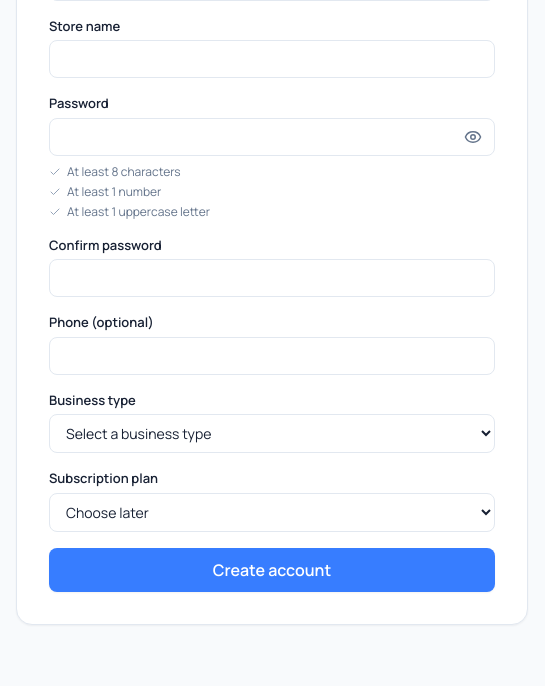
Scenario: auth flows › shows field errors on the sign-up form
(page scrolled)
Click the button "Create account".
click(272, 570)  # box top-left (49, 548), bottom-right (495, 592)
(page scrolled)
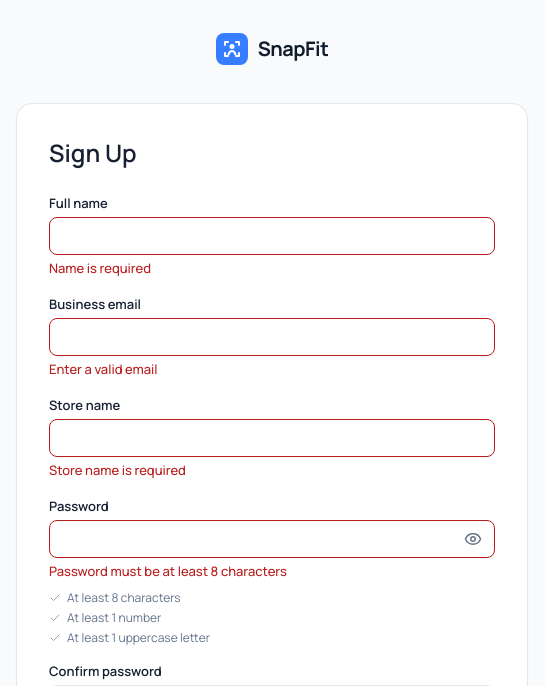
Expected: the text "Name is required" is shown, top-left (49, 259), bottom-right (151, 277)
